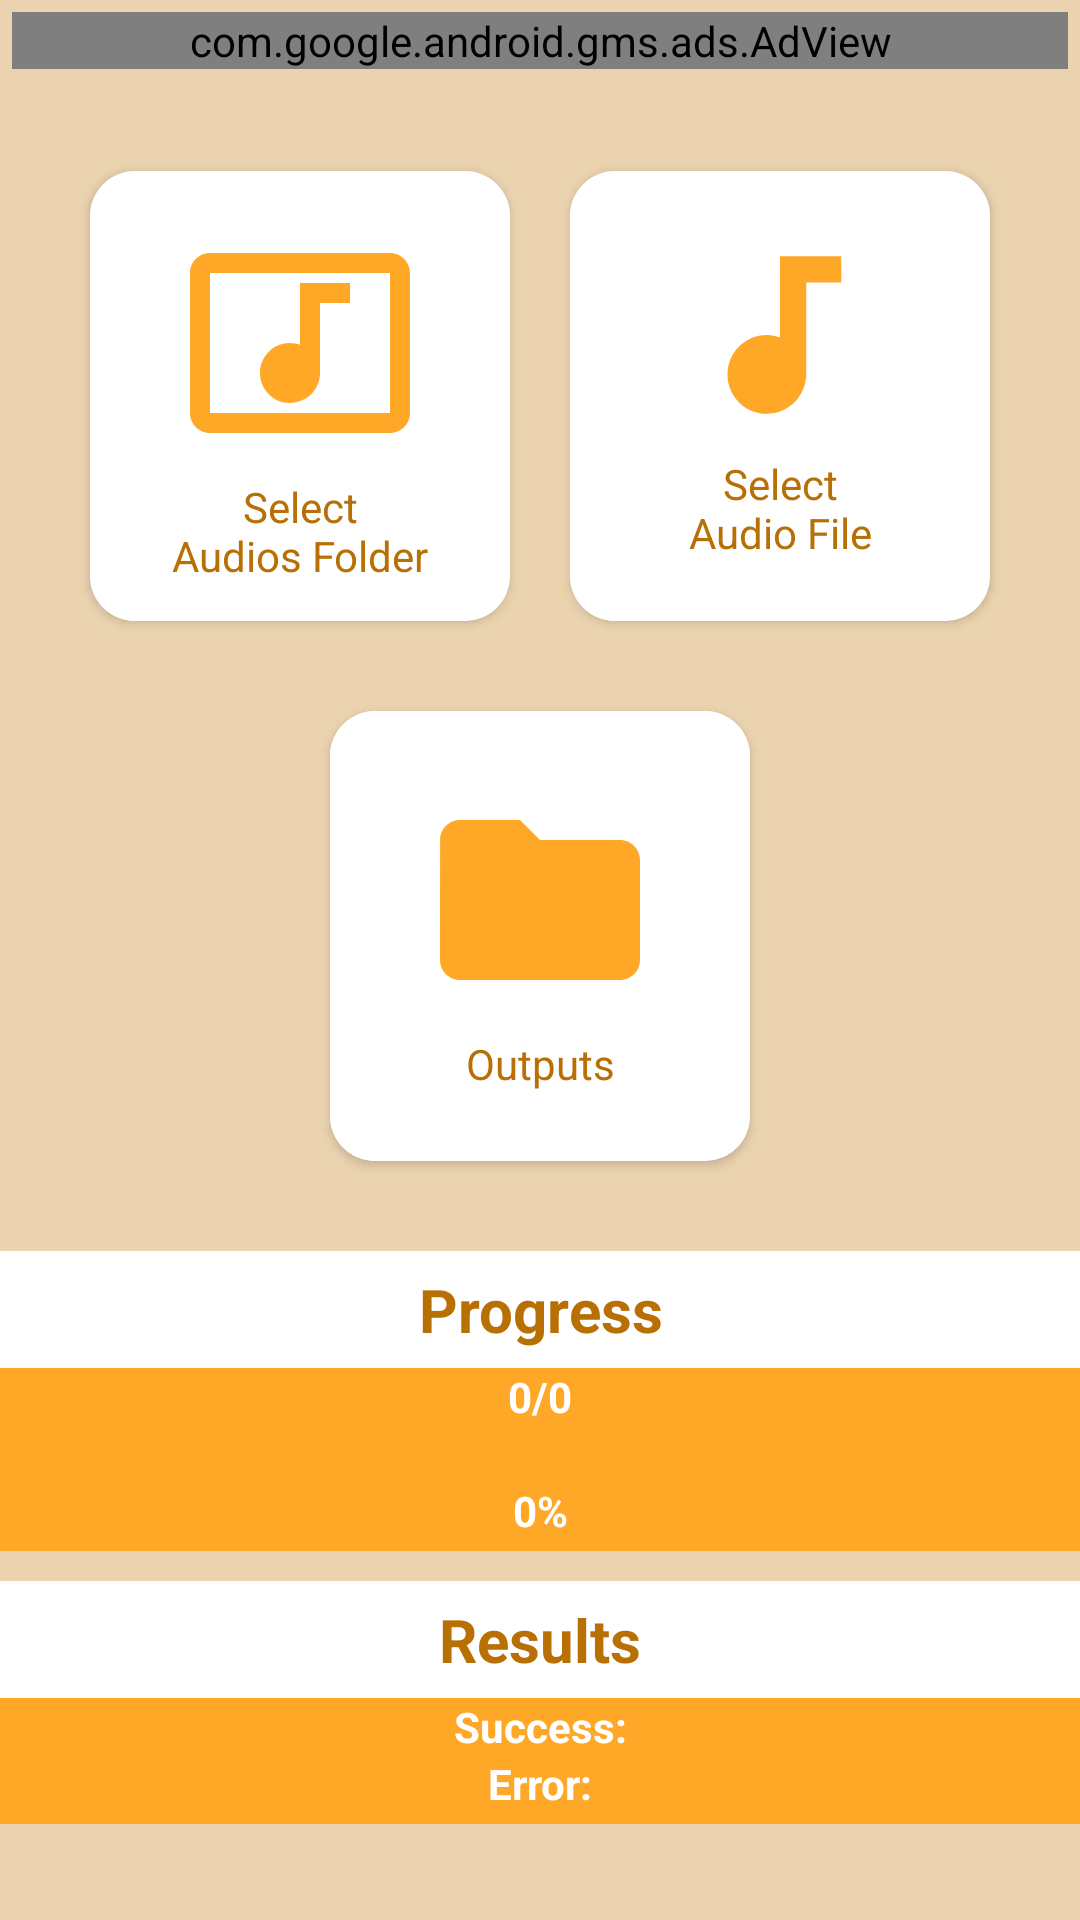

Icons on this 1080w x 1920h Android screen, each with the point to tap as point (x, y):
audiotrack: point (784, 335)
music video: point (300, 343)
